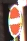No entry: (6, 5, 22, 36)
